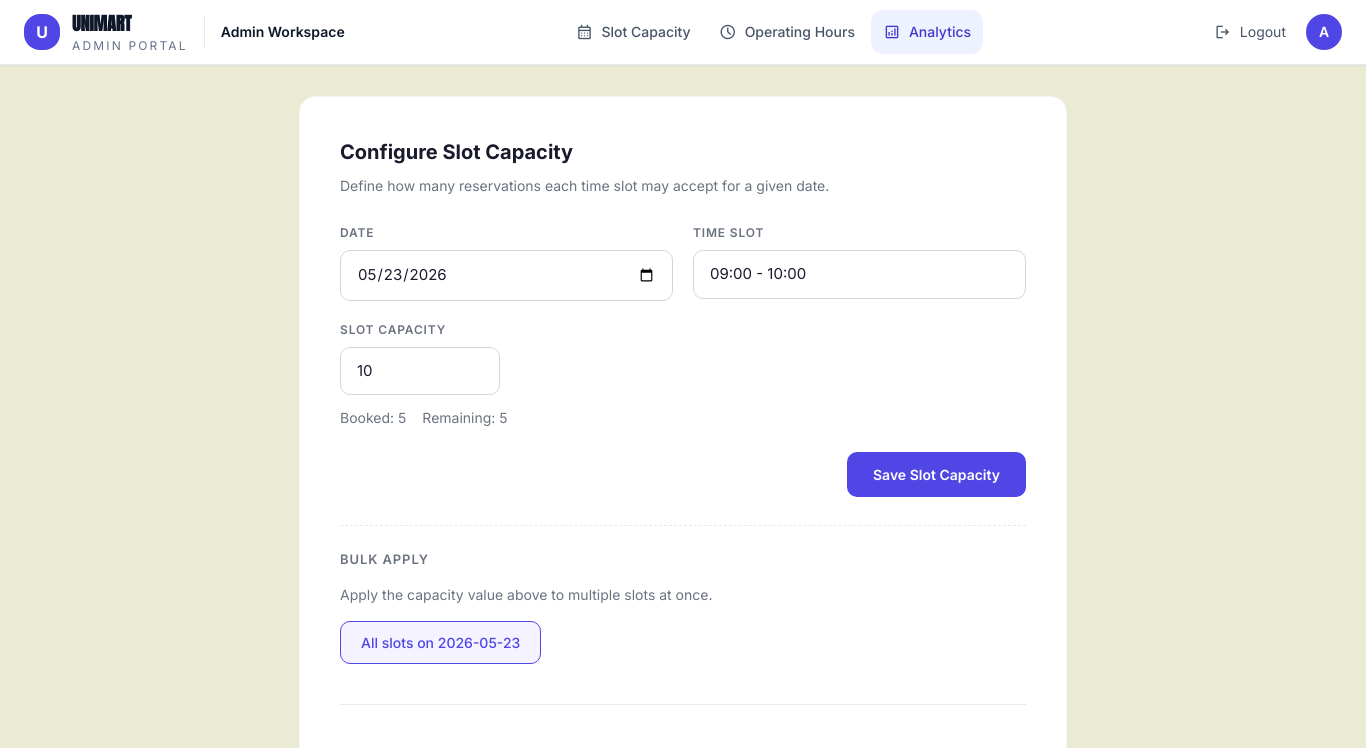
Scenario: AdminDashboard coverage – slot capacity › shows validation error for invalid slot capacity input
Replace the text in the number field with "0" at point(420, 371), box [340,346,500,395]
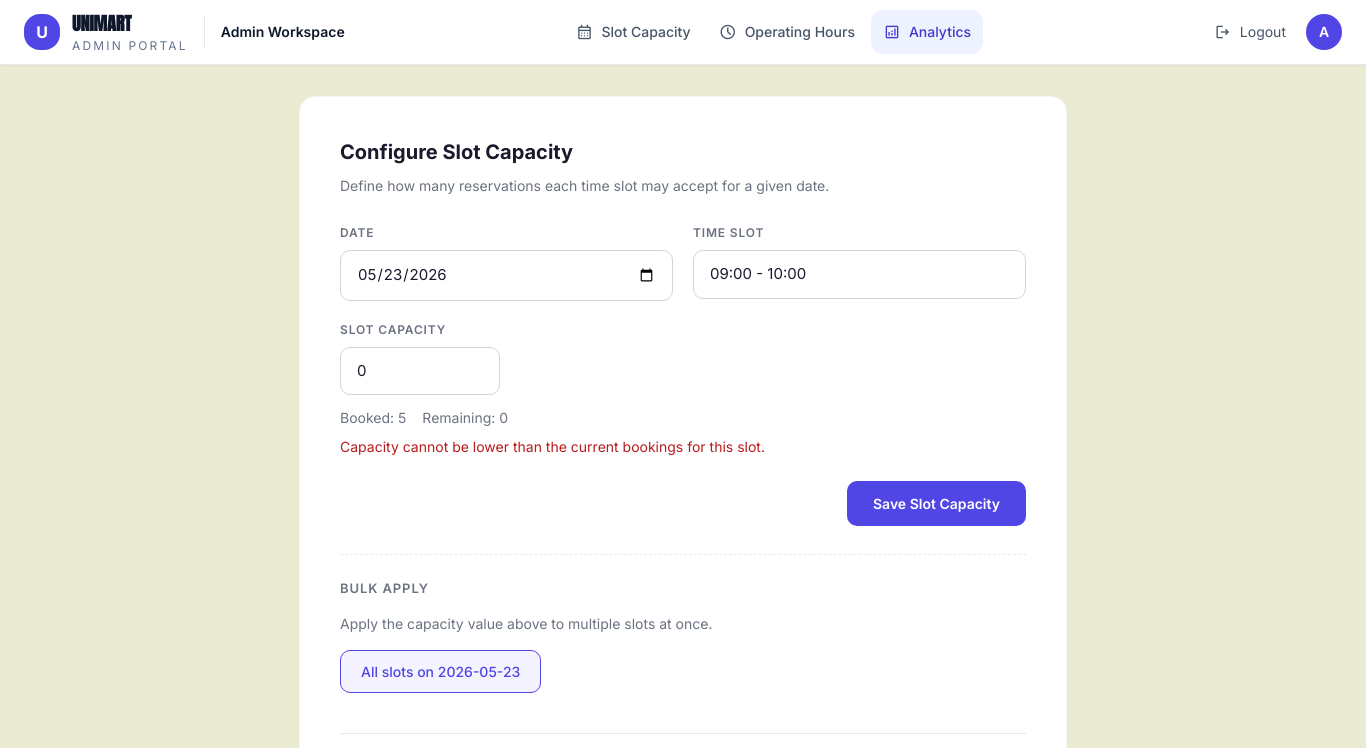
Click the button "Save Slot Capacity" at point(936, 504), box [847,481,1026,526]
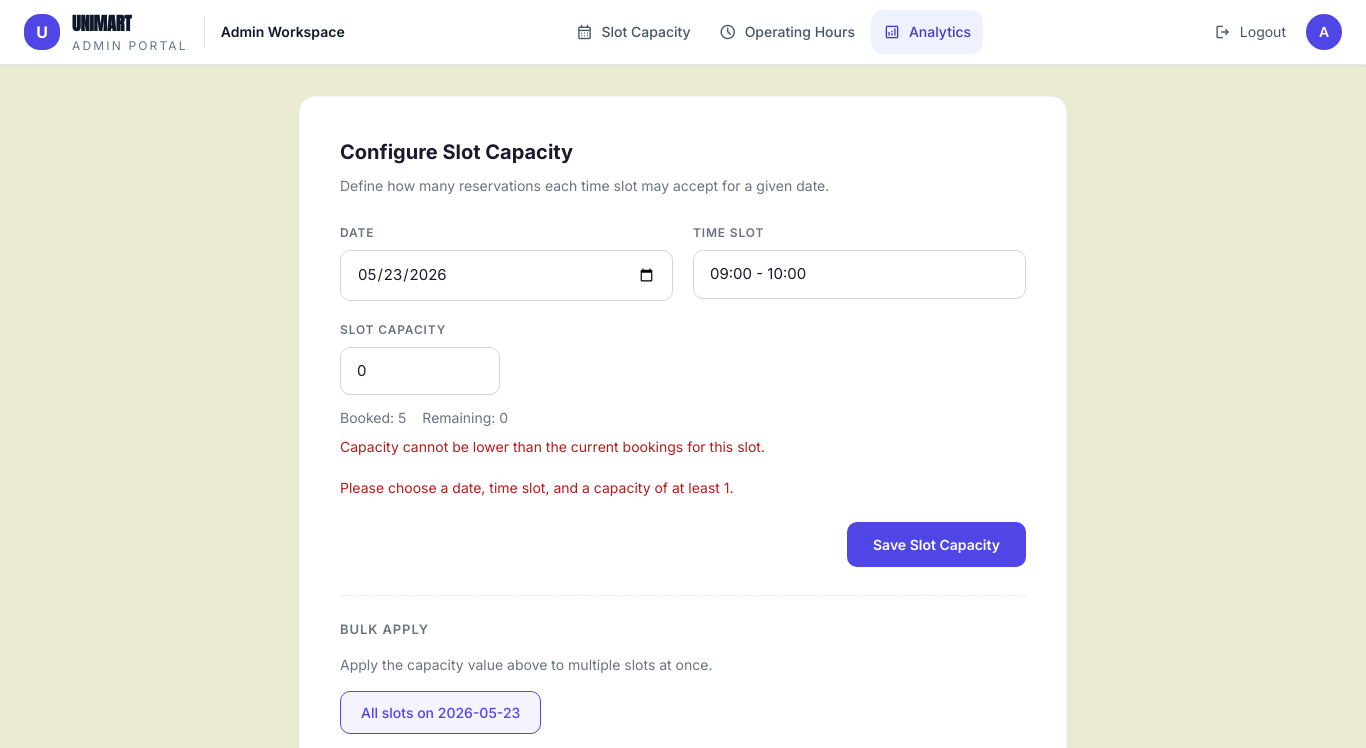
Expected: the text "Please choose a date, time slot, and a capacity of at least 1" is shown, [340,479,734,496]
